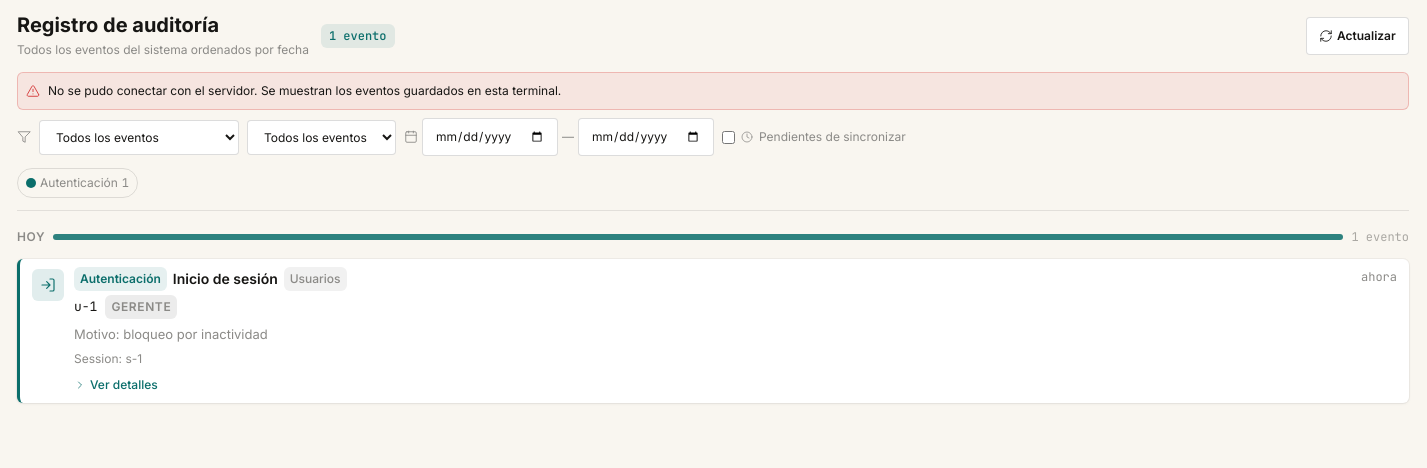
Test: AuditLogView › detail expand › shows Ver detalles button, click expands human-readable detail fragments, toggle hides it
This screenshot has width=1427, height=468.
Expected: the element named "Inicio de sesión — 02:04:44 p. m." is shown, [17,259,1409,403]
Step 1. Click the button "Ver detalles" → (116, 385), box [74,375,158,395]
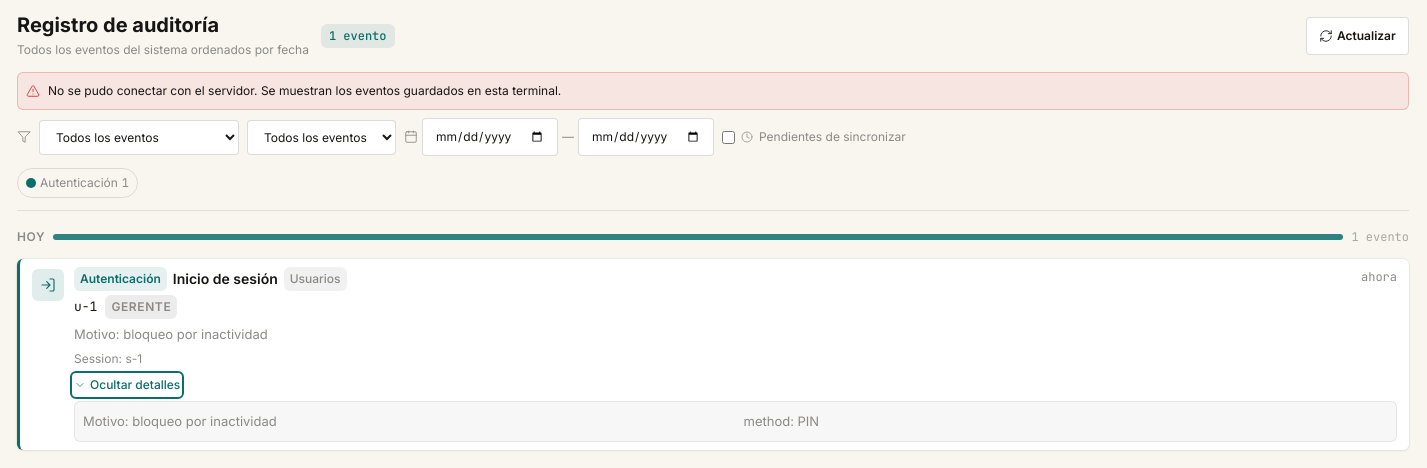
Expected: the text "Motivo: bloqueo por inactividad" is shown 2 times, [74,323,268,345]; [83,413,277,429]
Expected: the text "method: PIN" is shown, [744,413,819,429]
Expected: the button "Ocultar detalles" is expanded
Step 2. Click the button "Ocultar detalles" → (127, 385), box [74,375,180,395]
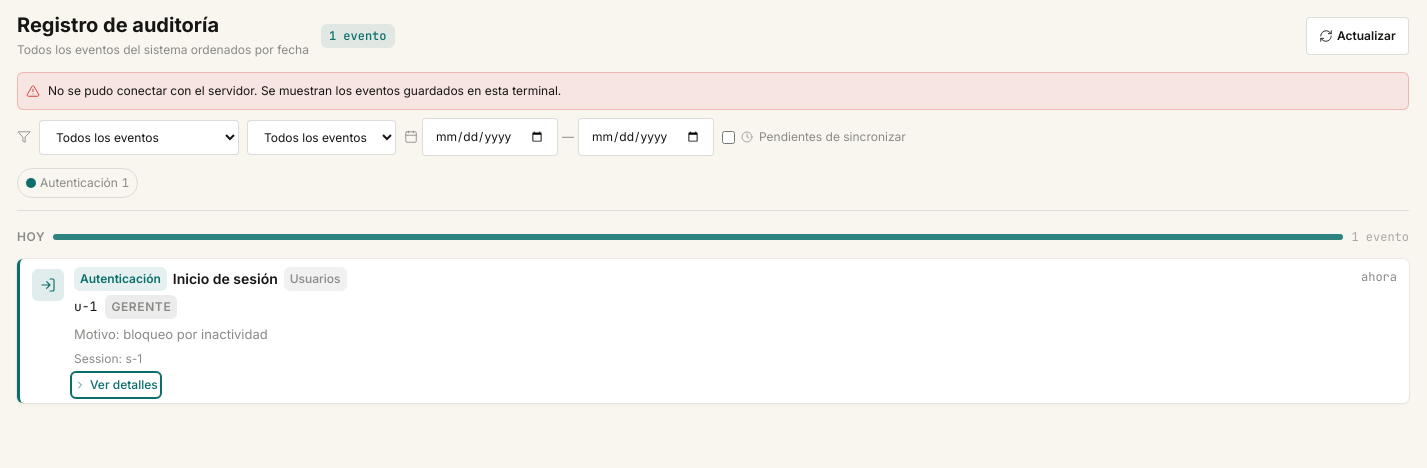
Expected: the button "Ocultar detalles" is gone
Expected: the button "Ver detalles" is shown, [74,375,158,395]
